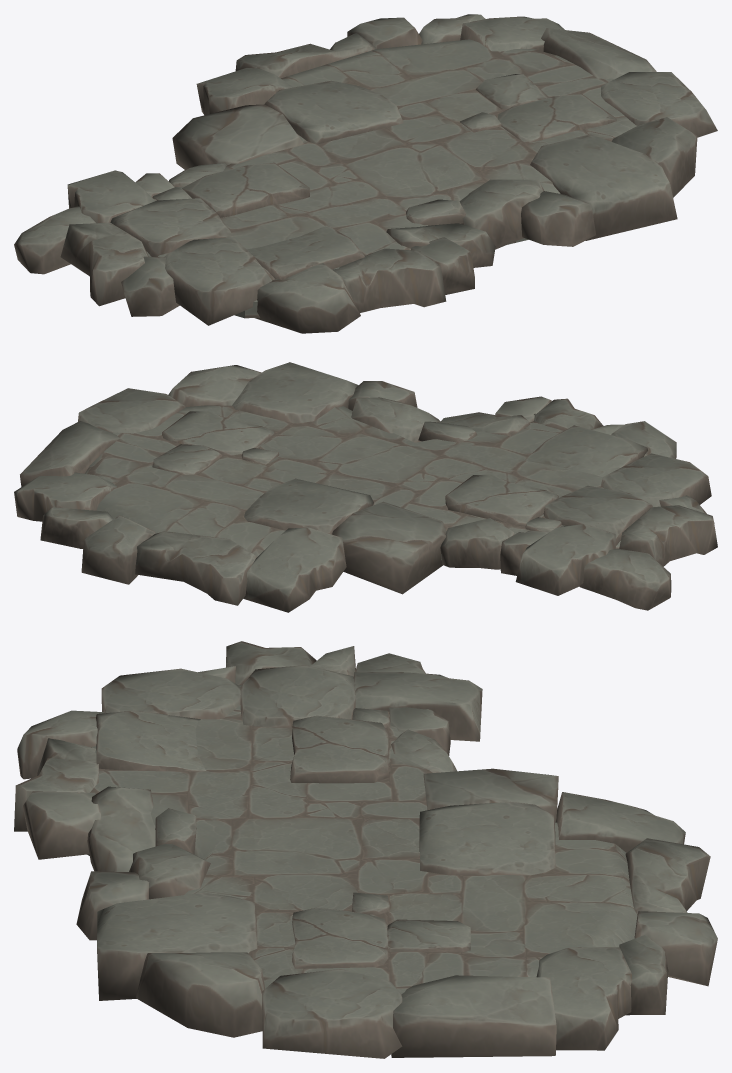
File: SM_FW01_Ruins_Int_Floor_Chunk_03.fbx
3 views of the same model, one above another, from view 1: azimuth 30°, elevation 25°; view 2: azimuth 150°, elevation 25°; view 3: azimuth 270°, elevation 25° (orthographic). The views are drawn at different scales.
Parts seen in each view (by area): view 1: SM_FW01_Ruins_Int_Floor_Chunk_03_LOD0, SM_FW01_Ruins_Int_Floor_Chunk_03; view 2: SM_FW01_Ruins_Int_Floor_Chunk_03_LOD0, SM_FW01_Ruins_Int_Floor_Chunk_03; view 3: SM_FW01_Ruins_Int_Floor_Chunk_03_LOD0, SM_FW01_Ruins_Int_Floor_Chunk_03.
Boxes of the visible parts, box(x1,y1,x2,y2) form: SM_FW01_Ruins_Int_Floor_Chunk_03_LOD0: box(14, 14, 717, 333); SM_FW01_Ruins_Int_Floor_Chunk_03: box(146, 39, 636, 318); SM_FW01_Ruins_Int_Floor_Chunk_03_LOD0: box(14, 362, 717, 612); SM_FW01_Ruins_Int_Floor_Chunk_03: box(85, 405, 620, 560); SM_FW01_Ruins_Int_Floor_Chunk_03_LOD0: box(14, 641, 717, 1058); SM_FW01_Ruins_Int_Floor_Chunk_03: box(87, 685, 637, 993).
Size of what is drawn, in the model's own units: 4.2 by 0.3814 by 3.22.
